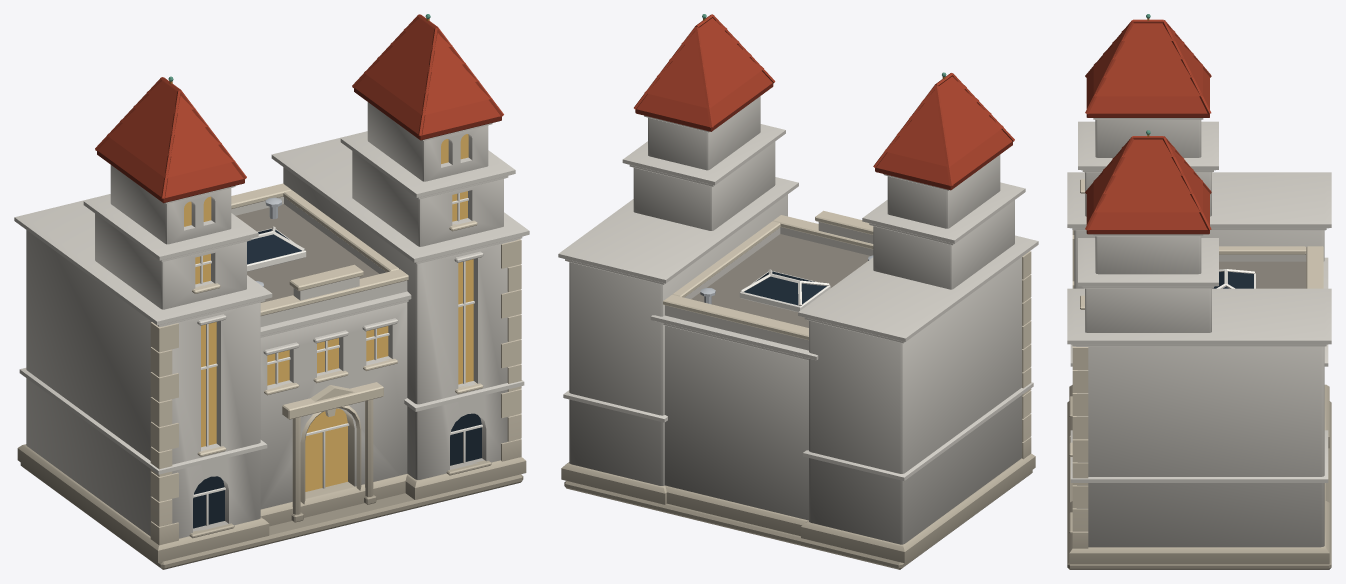
The model's file is bh_ozark.glb.
3 views of the same model, side by side, from view 1: azimuth 30°, elevation 25°; view 2: azimuth 150°, elevation 25°; view 3: azimuth 270°, elevation 25° (orthographic). The views are drawn at different scales.
Visible parts, largest first — view 1: bh_ozark; view 2: bh_ozark; view 3: bh_ozark.
Part boxes in pixels (<box>): bh_ozark: <box>14,14,529,569</box>; bh_ozark: <box>558,14,1038,569</box>; bh_ozark: <box>1067,14,1331,569</box>.
Bounding box in the file's own units: 0.0226 × 0.0261 × 0.015.
